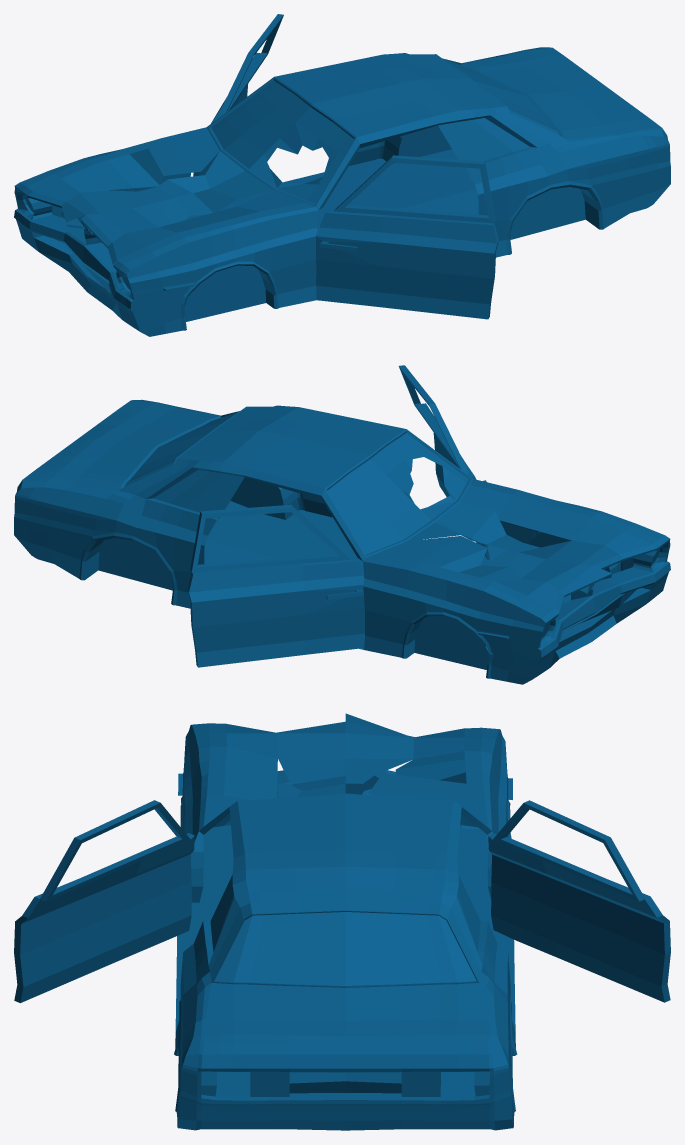
File: CarCrash_2.fbx
3 renders of one model, top to bottom at view 1: azimuth 30°, elevation 25°; view 2: azimuth 150°, elevation 25°; view 3: azimuth 270°, elevation 25°, orthographic. The views are drawn at different scales.
Parts seen in each view (by area): view 1: Cube.011, Cardoor.003, Cardoor.002; view 2: Cube.011, Cardoor.002, Cardoor.003; view 3: Cube.011, Cardoor.002, Cardoor.003.
Boxes of the visible parts, x1,y1,x2,y2 form: Cube.011: (14, 47, 670, 336); Cardoor.003: (315, 155, 498, 319); Cardoor.002: (193, 14, 283, 176); Cube.011: (14, 399, 670, 684); Cardoor.002: (187, 504, 364, 667); Cardoor.003: (398, 365, 489, 559); Cube.011: (174, 713, 517, 1130); Cardoor.002: (488, 800, 670, 1002); Cardoor.003: (14, 800, 194, 1003).
Bounding box in the file's own units: 631 × 149 × 504.
